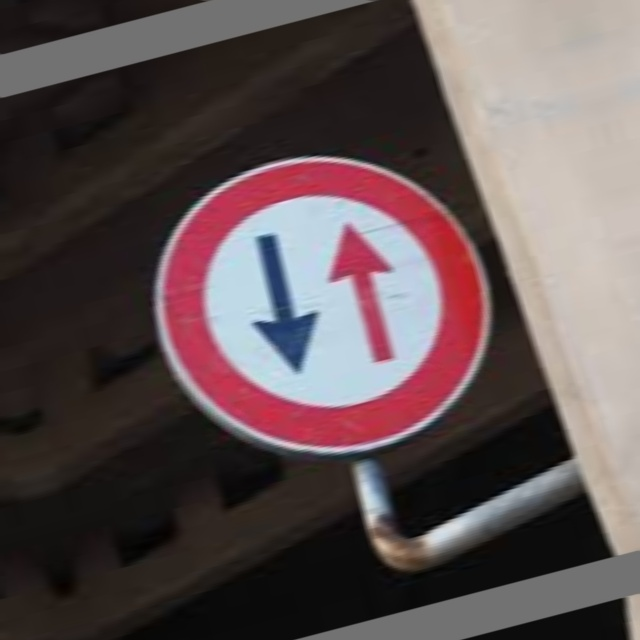Mandatory_Two_Way_Traffic: (127, 115, 534, 483)
